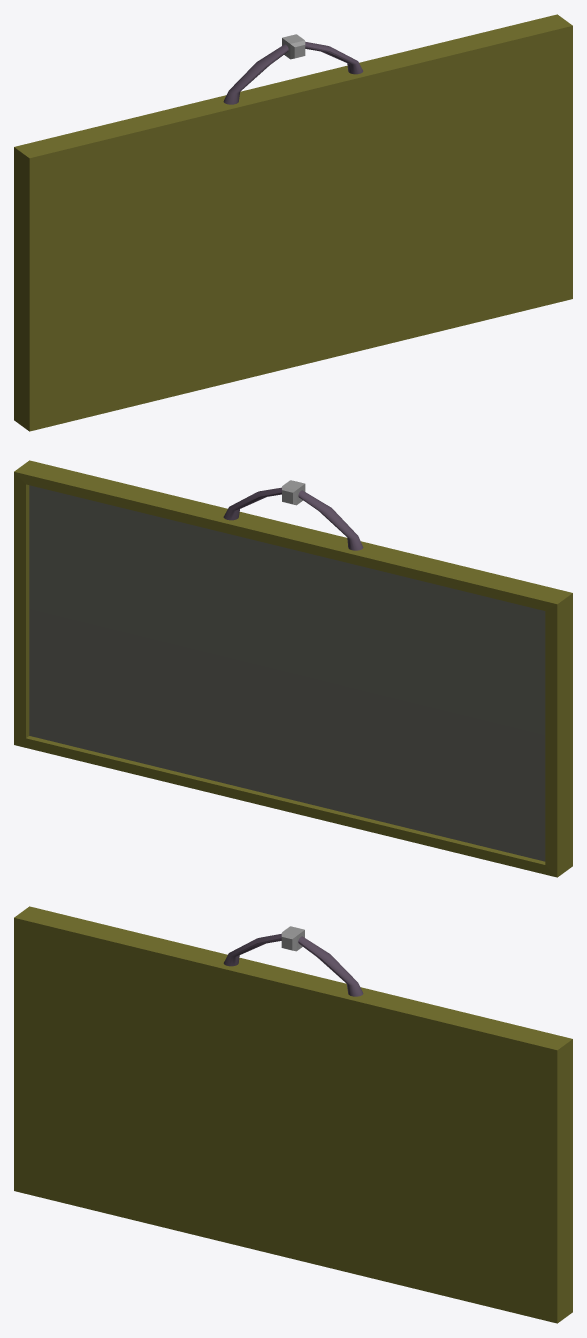
File: Bulletin board.fbx
The picture shows the model from 3 angles, top to bottom: view 1: azimuth 30°, elevation 25°; view 2: azimuth 150°, elevation 25°; view 3: azimuth 330°, elevation 25°; orthographic projection.
Parts seen in each view (by area): view 1: Bulletin board; view 2: Bulletin board; view 3: Bulletin board.
Part boxes in pixels (left/top/right/bottom): Bulletin board: left=14, top=14, right=572, bottom=431; Bulletin board: left=14, top=460, right=572, bottom=877; Bulletin board: left=14, top=906, right=572, bottom=1323.
Bounding box in the file's own units: 4040 × 2277 × 201.
